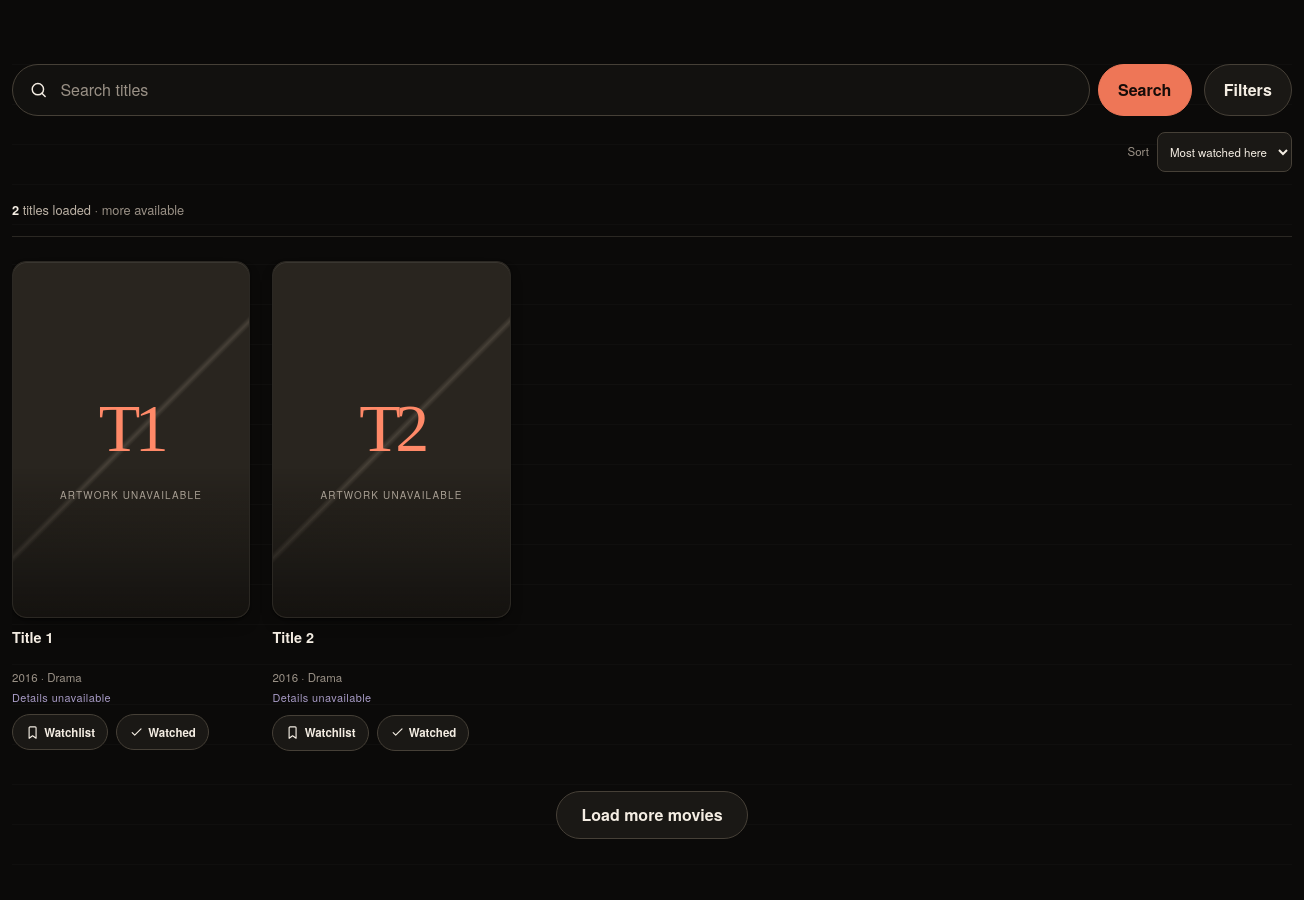
cursor continuation › appends the next page without repeating a movie
The width and height of the screenshot is (1304, 900).
Expected: the list named "Browse results" is shown, [12,261,511,750]
Click the button "Load more movies". click: (652, 815)
box: [556,790,748,839]
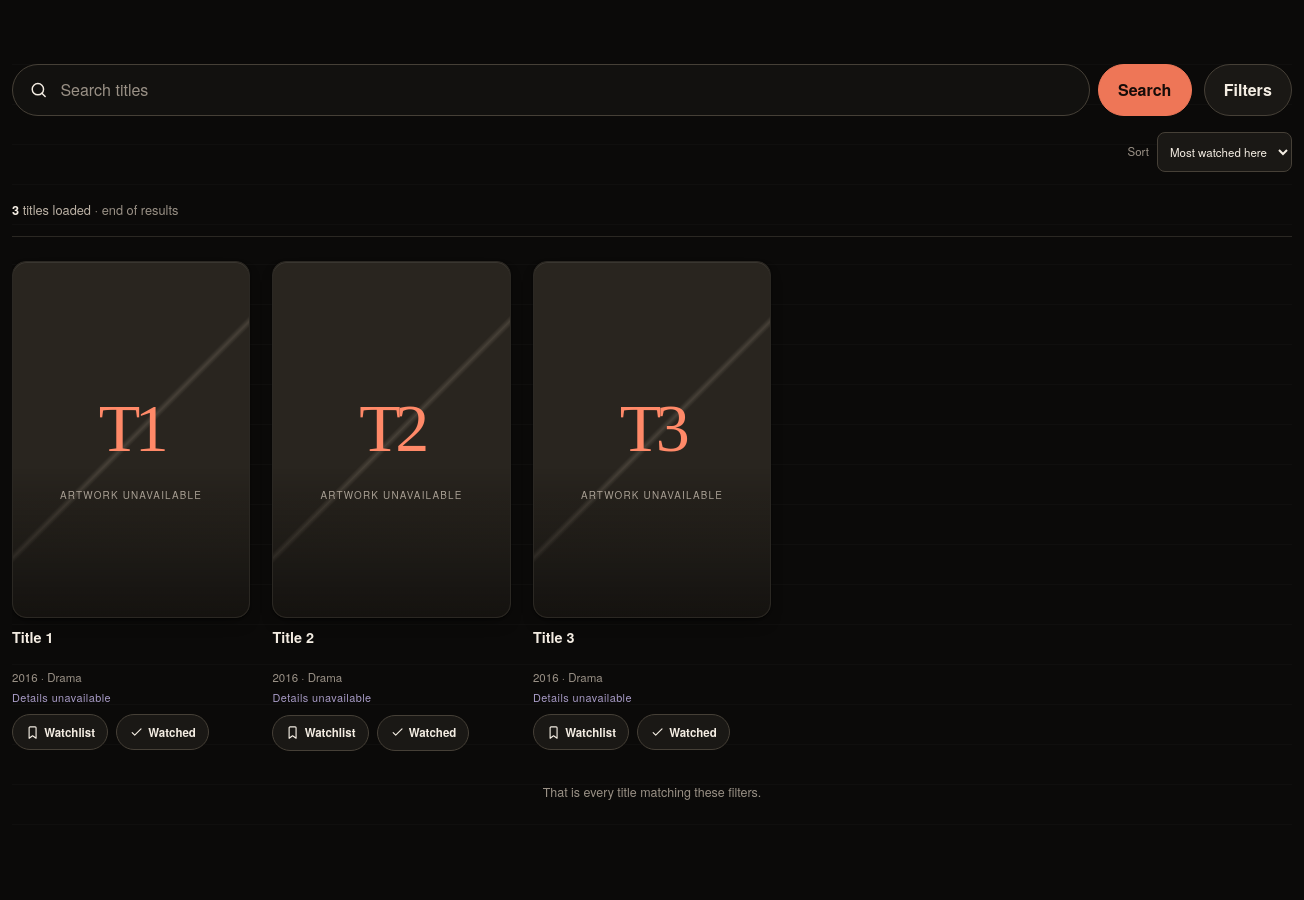
Expected: the number of list items is 3, [12,261,250,750]; [272,261,511,750]; [533,261,771,750]
Expected: the text "3 titles loaded · end of results" is shown, [12,200,178,220]
Expected: the button "Load more movies" is gone
